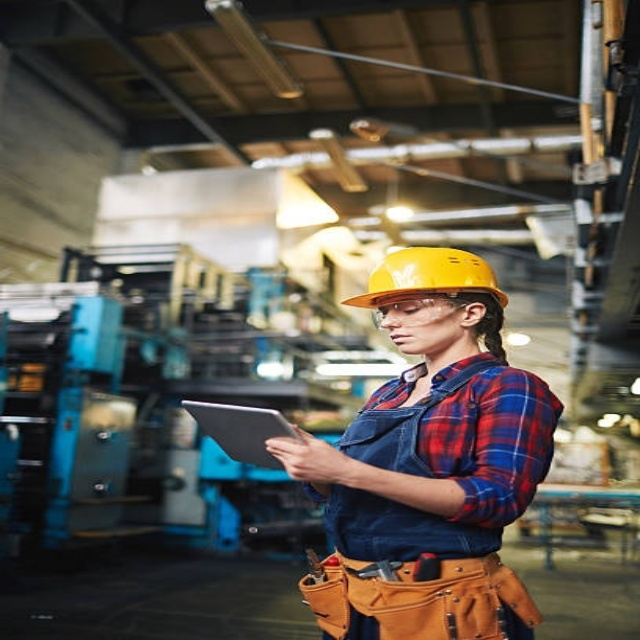Gafas: (370, 296, 473, 332)
Sin_guantes: (263, 423, 347, 484)
Sin_mascara: (386, 326, 425, 352)
